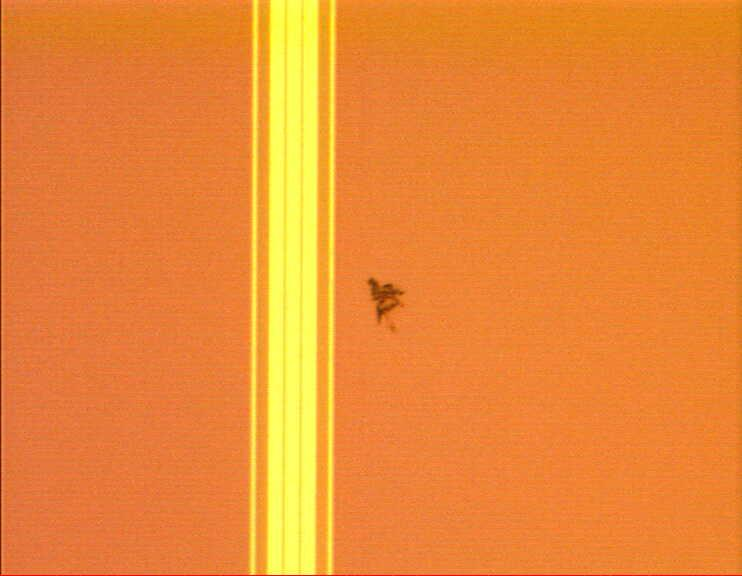PIQ PARTICLE: (360, 273, 414, 335)
